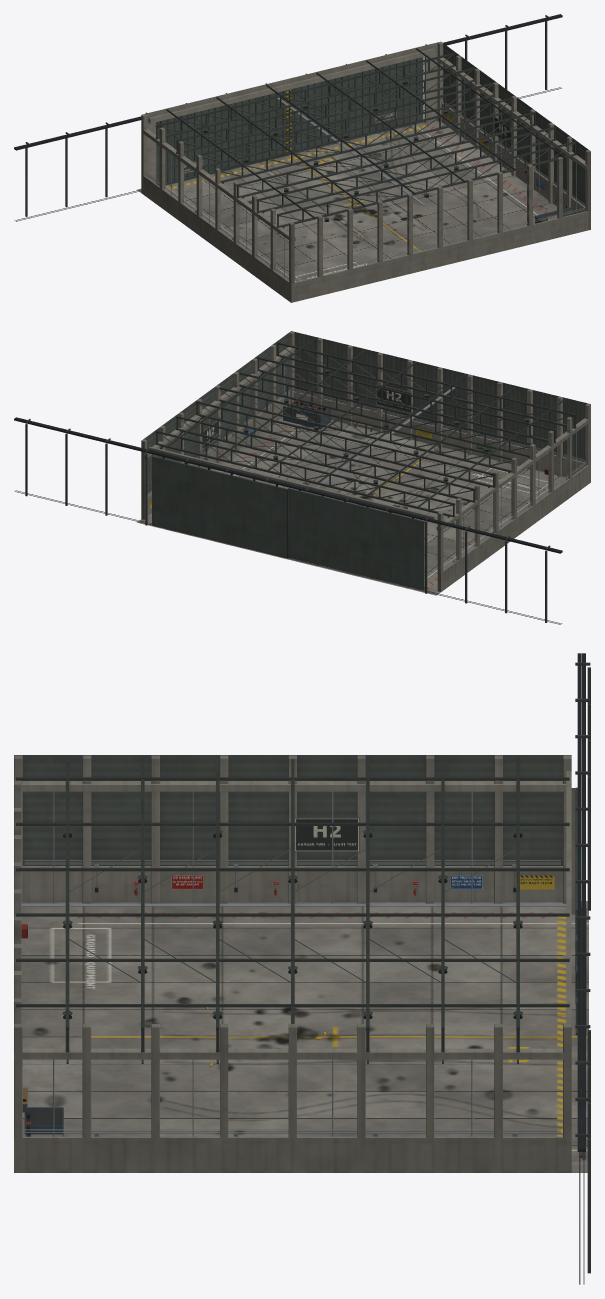
The model's file is hangar_interior_set.glb.
The picture shows the model from 3 angles, top to bottom: view 1: azimuth 30°, elevation 25°; view 2: azimuth 150°, elevation 25°; view 3: azimuth 270°, elevation 25°; orthographic projection. The views are drawn at different scales.
Parts seen in each view (by area): view 1: lod0, door_r, door_l; view 2: lod0, door_r, door_l; view 3: lod0.
Part boxes in pixels (bbox=[...]): lod0: bbox=[14, 14, 590, 302]; door_r: bbox=[290, 57, 423, 151]; door_l: bbox=[156, 89, 290, 185]; lod0: bbox=[14, 331, 590, 624]; door_r: bbox=[152, 456, 288, 558]; door_l: bbox=[288, 488, 425, 590]; lod0: bbox=[14, 653, 590, 1284].
Size of the model in its own units: 109 by 15 by 53.8.
1 material, 1 textured.
